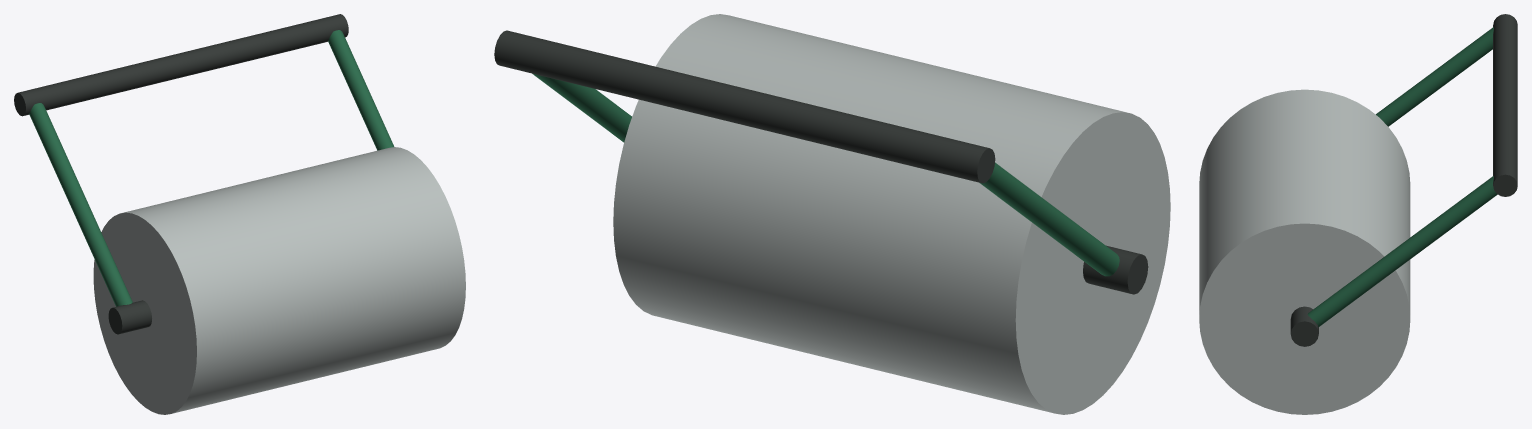
Rendered from cricket-ground-and-pavilion-manual-pitch-roller-28820f54__31337.glb.
3 renders of one model, left to right at view 1: azimuth 30°, elevation 25°; view 2: azimuth 150°, elevation 25°; view 3: azimuth 270°, elevation 25°, orthographic. The views are drawn at different scales.
Visible parts, largest first — view 1: manual-pitch-roller; view 2: manual-pitch-roller; view 3: manual-pitch-roller.
Part boxes in pixels (x1=…): manual-pitch-roller: x1=14, y1=14, x2=465, y2=414; manual-pitch-roller: x1=494, y1=14, x2=1170, y2=414; manual-pitch-roller: x1=1199, y1=14, x2=1517, y2=414.
Size of the model in its own units: 1.1 by 0.795 by 0.905.
